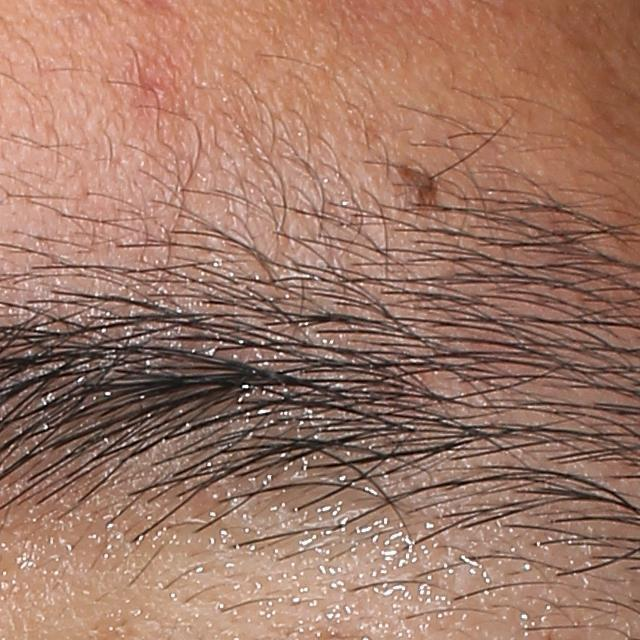nevus: (398, 163, 450, 212)
